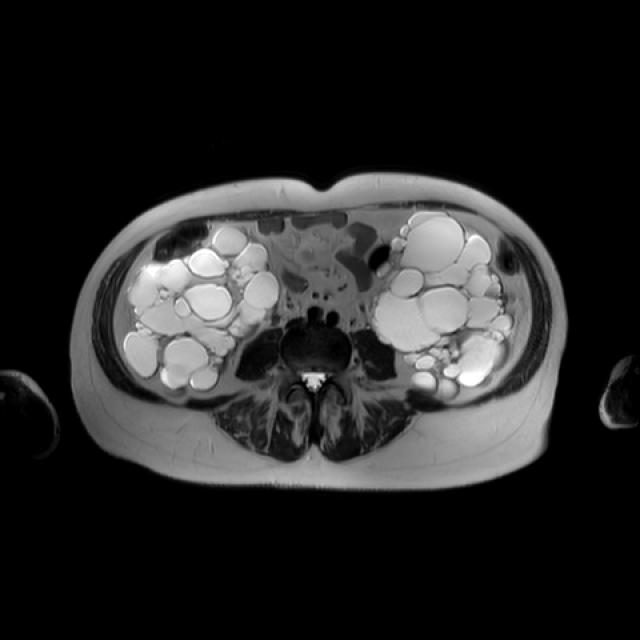sag: (125, 231, 276, 395)
sol: (372, 206, 512, 399)
